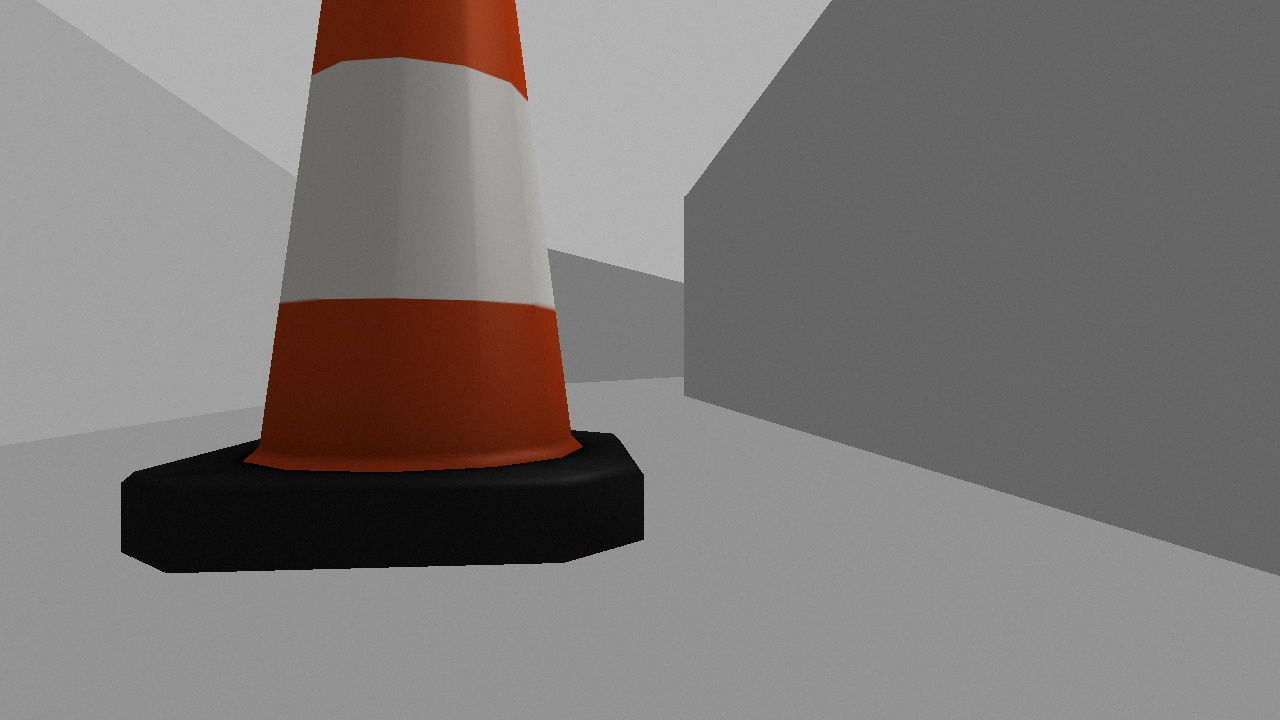barricade: (121, 1, 645, 574)
